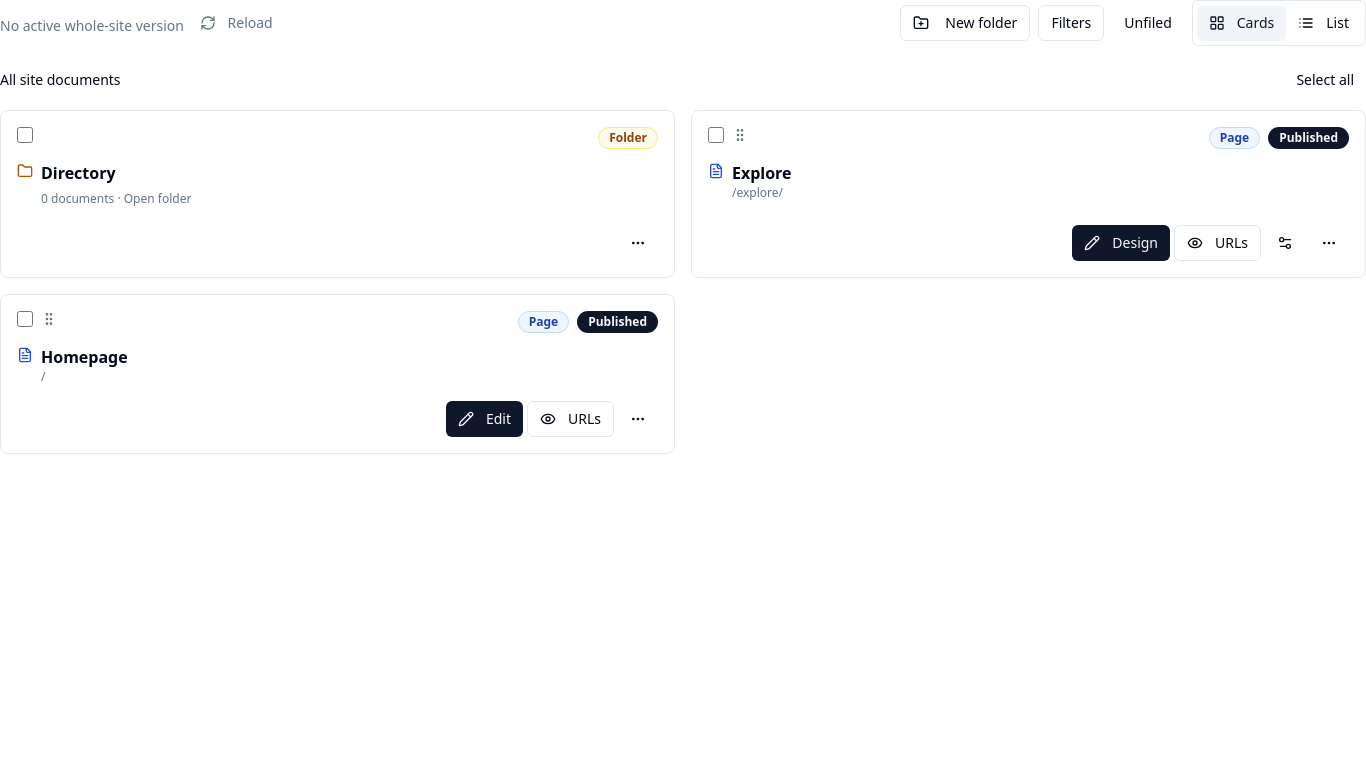
Scenario: site pages workspace › locks subsequent writes on revision conflict until explicit reload
The image size is (1366, 768).
Check: the heading "Explore" is shown, box x1=732 y1=162 x2=792 y2=184
Click the button named "Actions for Explore". click: (1329, 243)
box: x1=1309 y1=225 x2=1349 y2=261
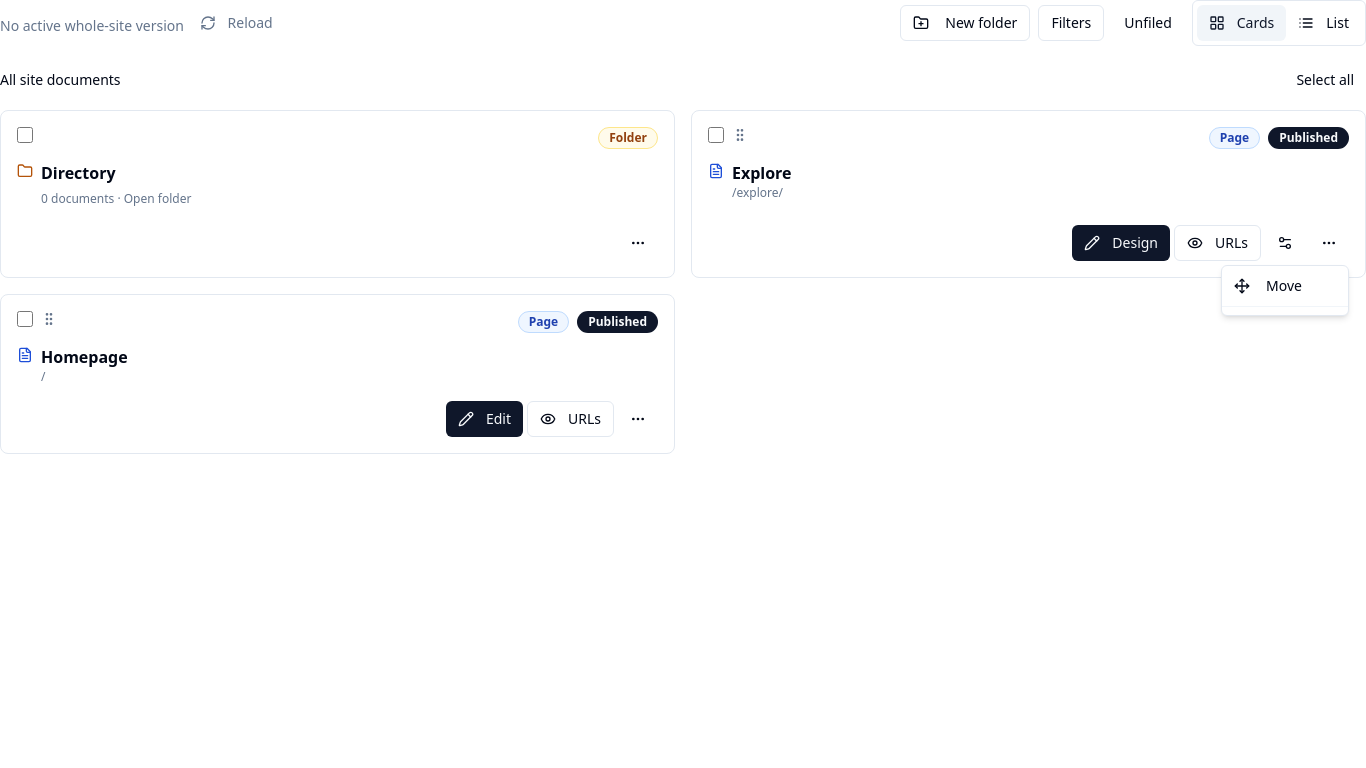
Click the menu item "Move". click: (1268, 286)
box: x1=1234 y1=276 x2=1302 y2=295
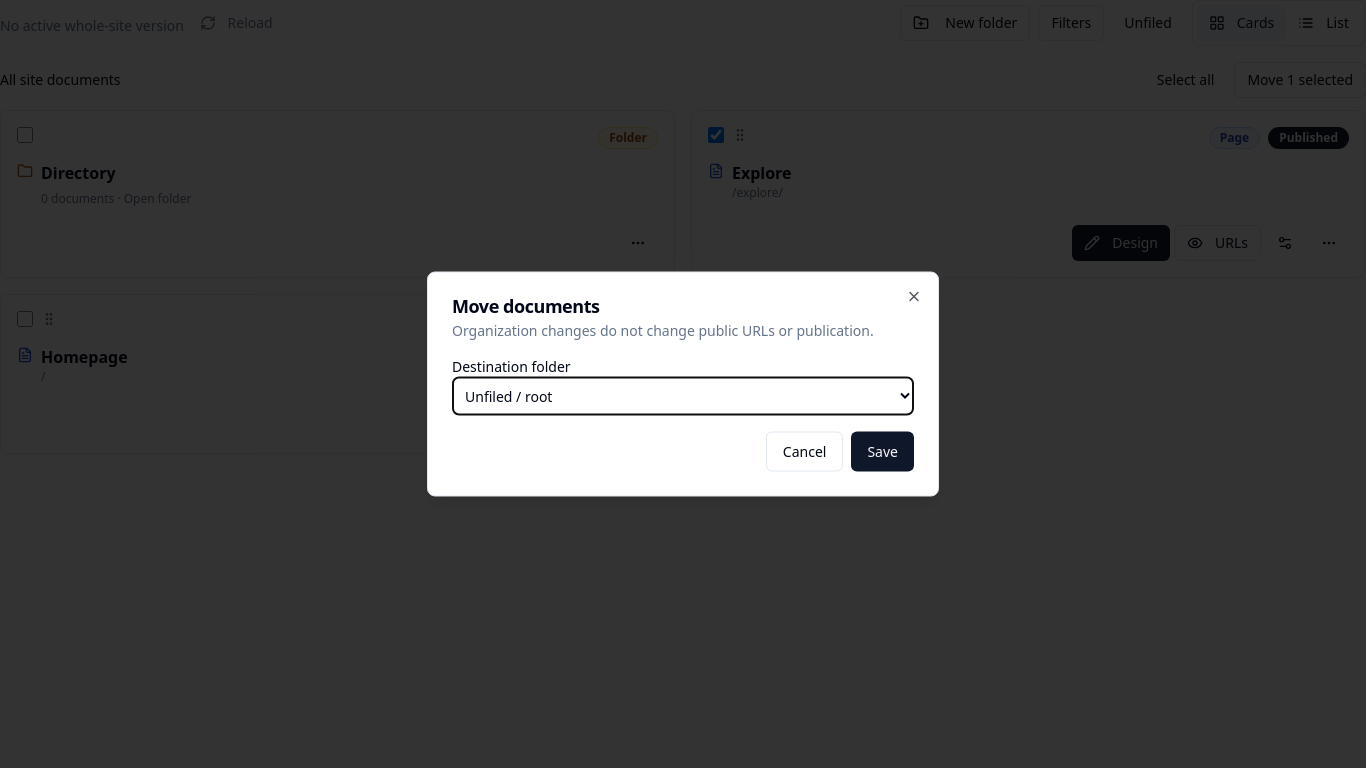
Click the button "Save". click: (883, 452)
box: x1=851 y1=432 x2=914 y2=472
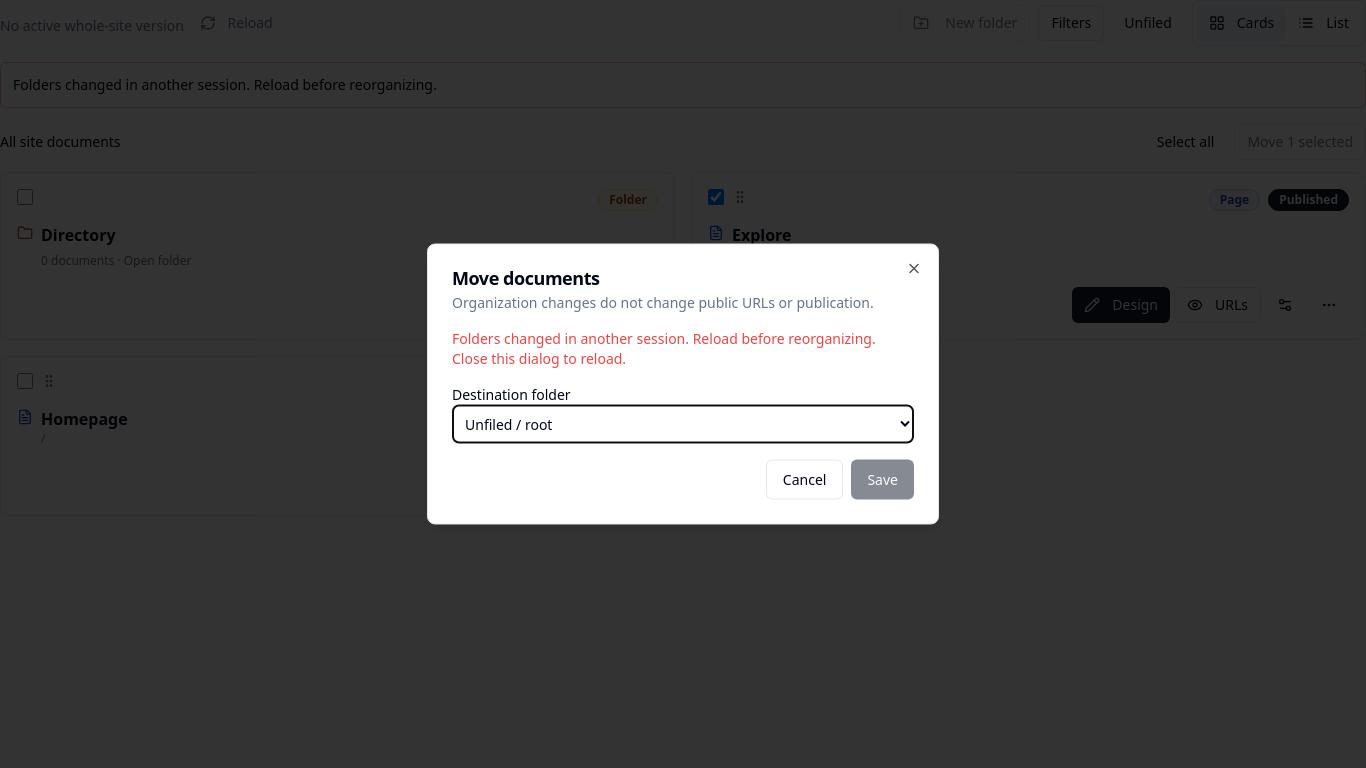
Check: the message is shown, box x1=452 y1=328 x2=914 y2=368
Check: the button "Save" is disabled, box x1=851 y1=460 x2=914 y2=500
Check: the message shows "another session", box x1=452 y1=328 x2=876 y2=348
